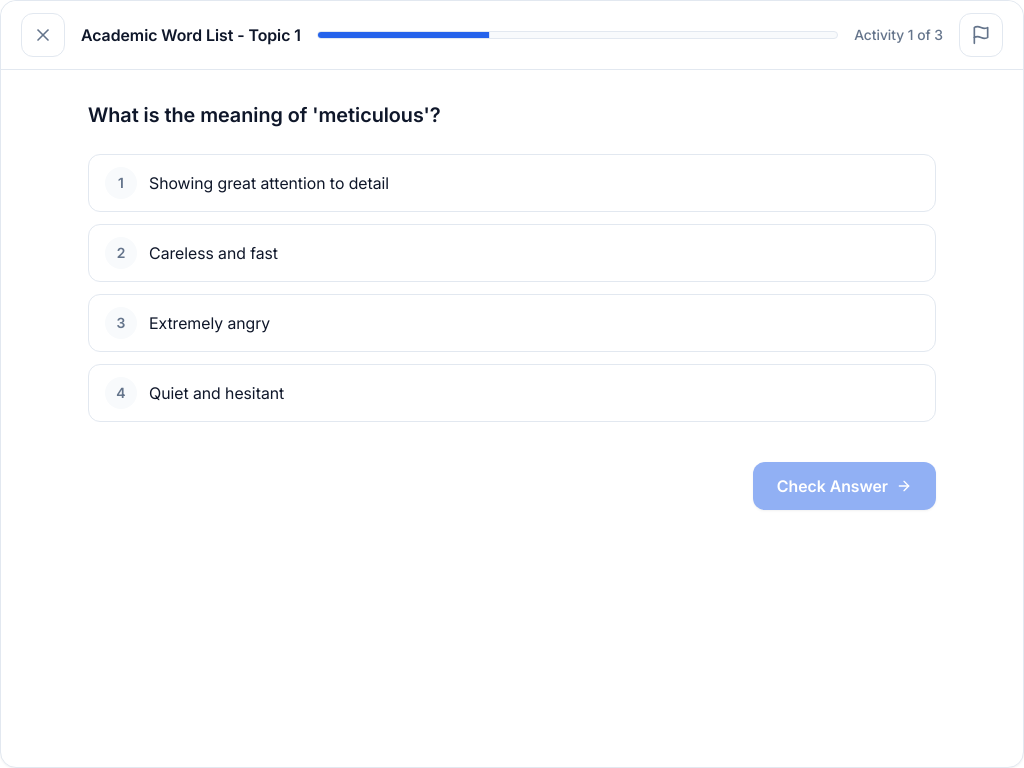
Test case: LessonPage Runner (P10.3) › renders only one report action before and after answering
Expected: the heading "What is the meaning of 'meticulous'?" is shown, [88,103,441,127]
Expected: the number of buttons named "Report issue" is 1, [959,13,1003,57]
Click the text "Showing great attention to detail". click: coordinates (269, 182)
box: [149,170,389,194]
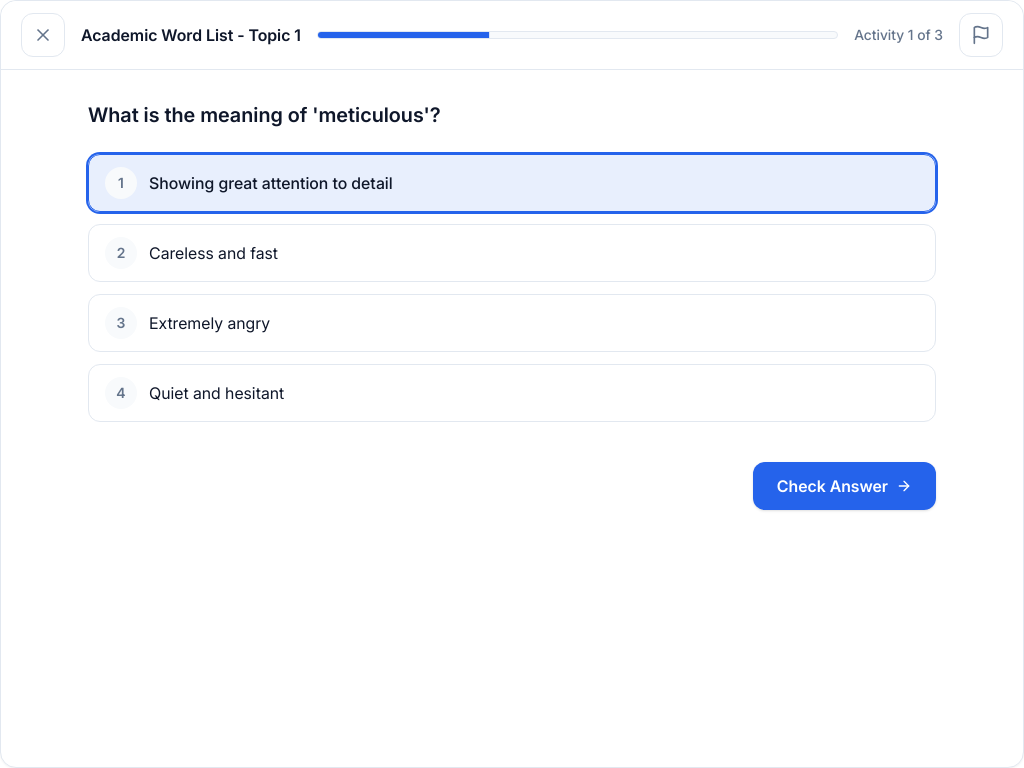
Click the button "Check Answer". click: coordinates (844, 486)
box: [753,462,936,510]
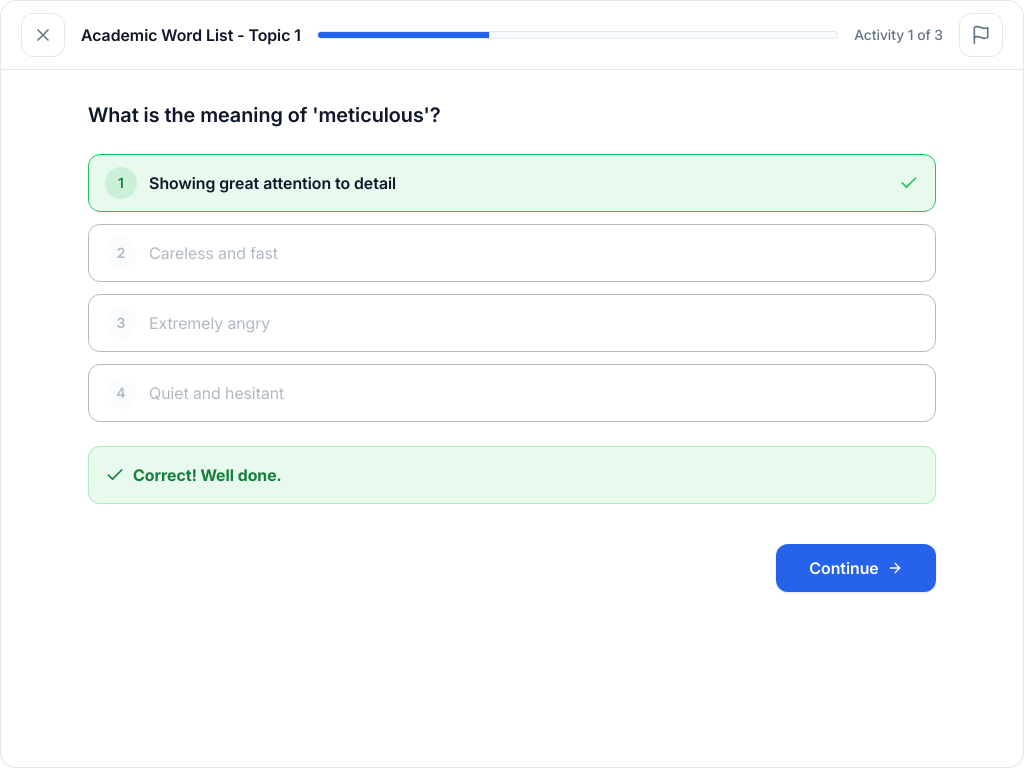
Click the button named "Report issue". click: coordinates (981, 35)
box: [959,13,1003,57]
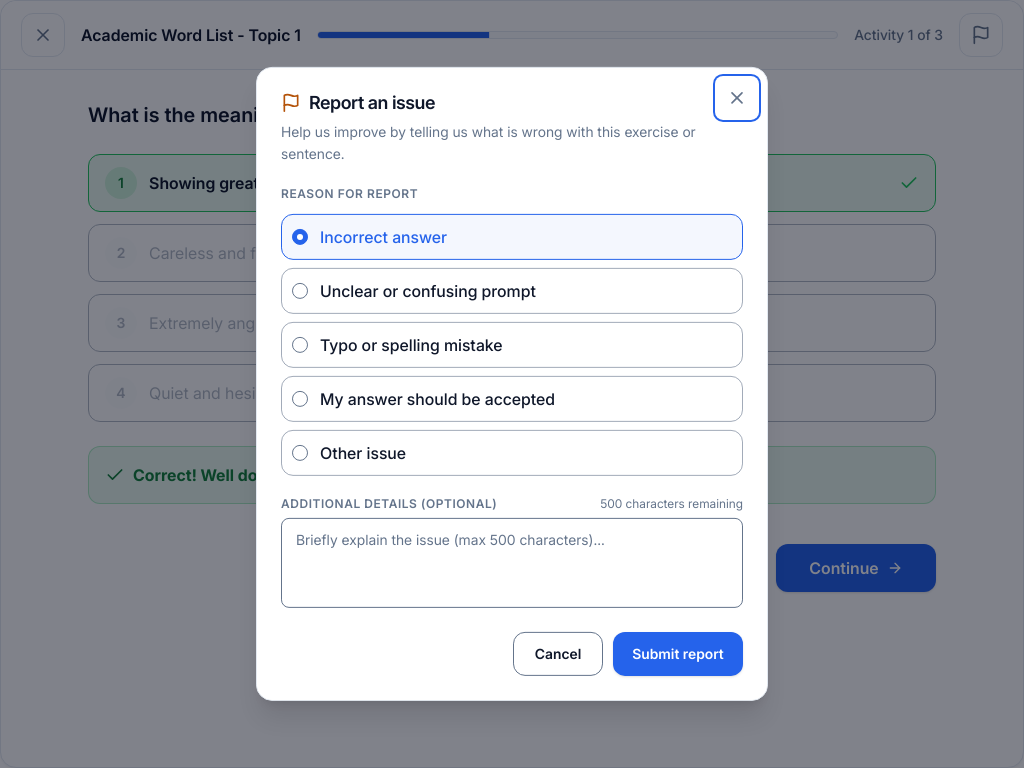
Expected: the dialog "Report an issue" is shown, [256,67,768,701]
